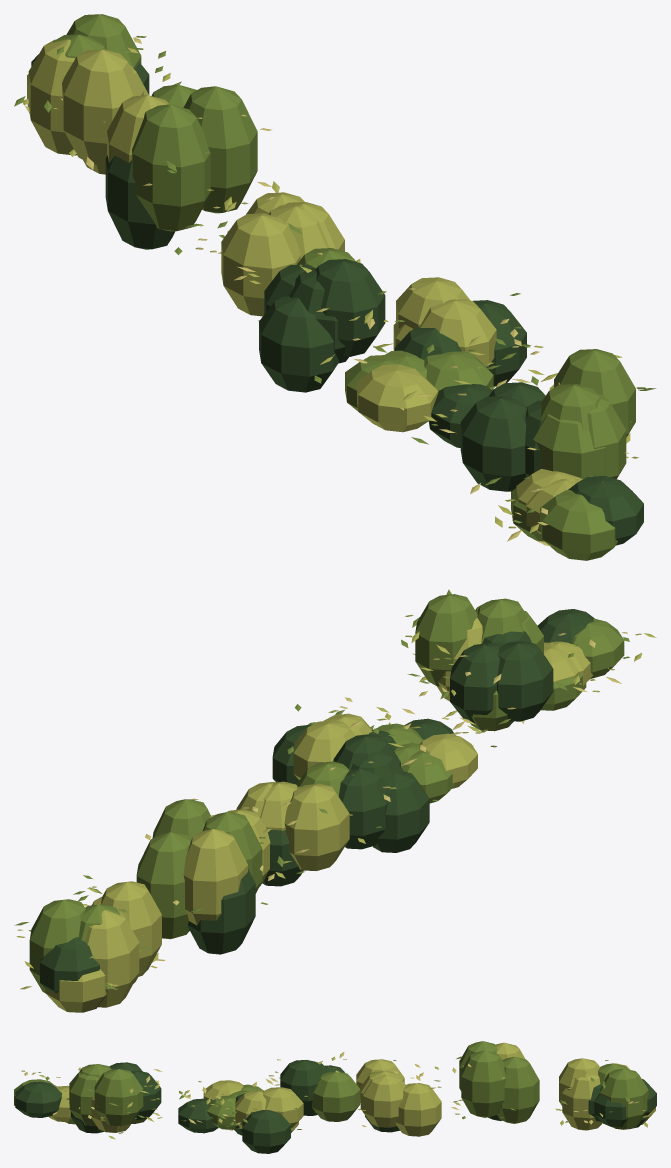
The model's file is Garden_LeafyHedge_01.obj.
3 renders of one model, top to bottom at view 1: azimuth 30°, elevation 25°; view 2: azimuth 150°, elevation 25°; view 3: azimuth 270°, elevation 25°, orthographic. The views are drawn at different scales.
Parts seen in each view (by area): view 1: Garden_LeafyHedge_01; view 2: Garden_LeafyHedge_01; view 3: Garden_LeafyHedge_01.
Boxes of the visible parts, x1,y1,x2,y2 form: Garden_LeafyHedge_01: (14, 14, 656, 560); Garden_LeafyHedge_01: (14, 589, 656, 1012); Garden_LeafyHedge_01: (14, 1041, 656, 1153).
Bounding box in the file's own units: 3.34 × 2.36 × 15.86.
1 material, 1 textured.
